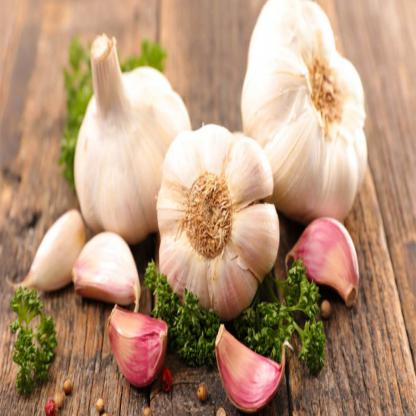garlic: (241, 0, 368, 218), (75, 38, 192, 245), (157, 130, 276, 318), (288, 219, 360, 308), (216, 328, 288, 415), (20, 209, 86, 294), (74, 231, 140, 315), (105, 305, 166, 387)
